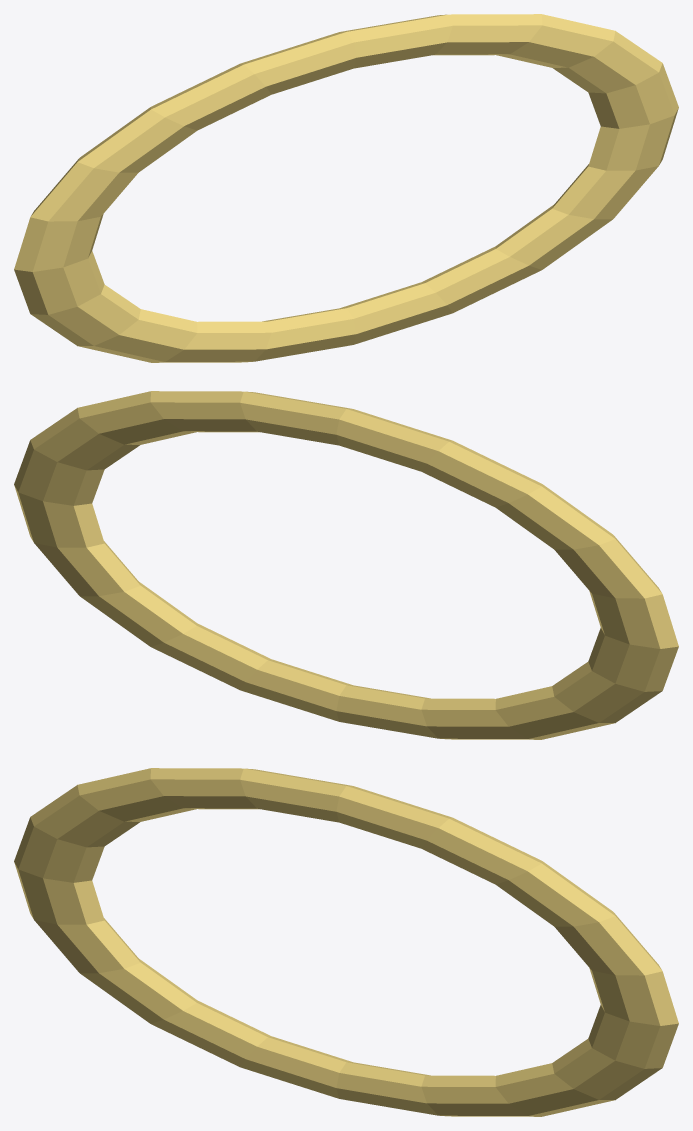
The model's file is buckle_04.glb.
The picture shows the model from 3 angles, top to bottom: view 1: azimuth 30°, elevation 25°; view 2: azimuth 150°, elevation 25°; view 3: azimuth 330°, elevation 25°; orthographic projection.
Visible parts, largest first — view 1: BuckleExport; view 2: BuckleExport; view 3: BuckleExport.
Part boxes in pixels (bbox=[...]): BuckleExport: bbox=[14, 14, 678, 362]; BuckleExport: bbox=[14, 391, 678, 739]; BuckleExport: bbox=[14, 768, 678, 1116].
Bounding box in the file's own units: 0.0544 × 0.0245 × 0.00288.
